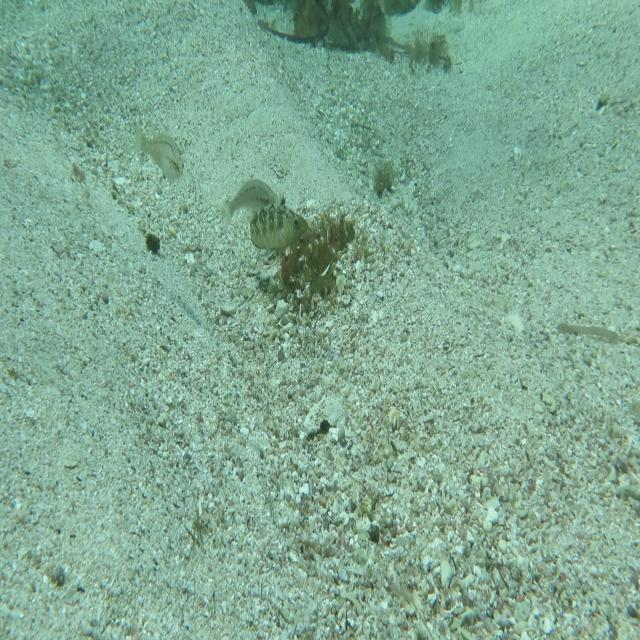BEND_OPP: (247, 186, 310, 256)
female: (217, 169, 285, 231)
nest: (270, 200, 373, 313)
other_fish: (127, 118, 194, 190)
